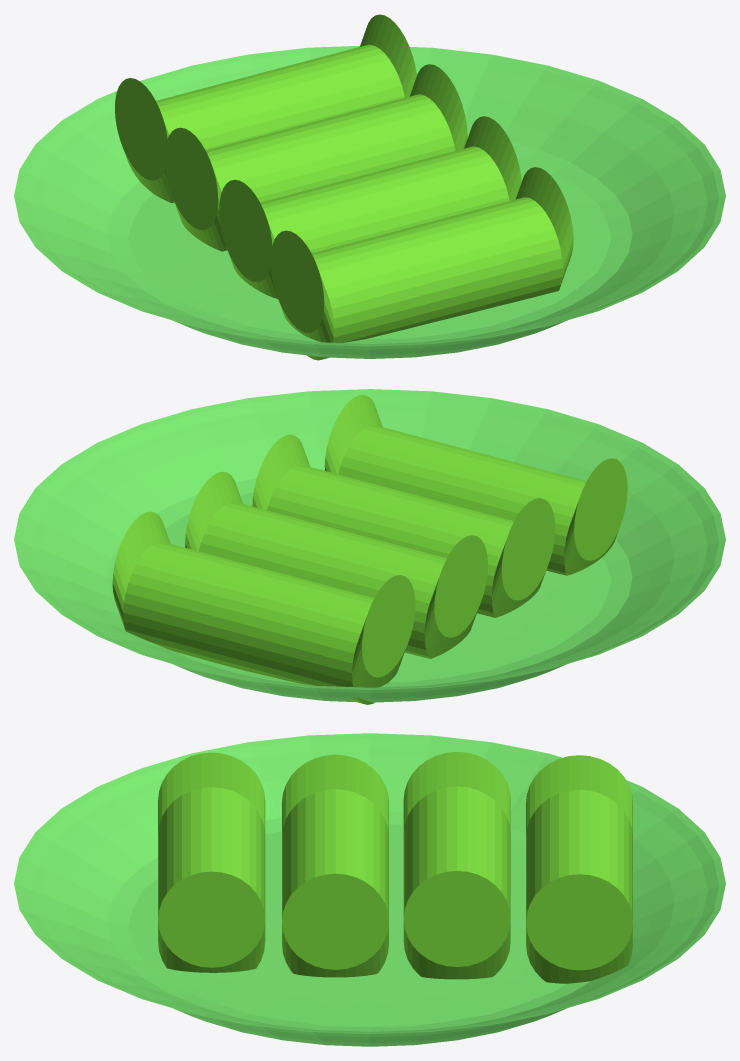
File: lemper.fbx
The picture shows the model from 3 angles, top to bottom: view 1: azimuth 30°, elevation 25°; view 2: azimuth 150°, elevation 25°; view 3: azimuth 270°, elevation 25°; orthographic projection.
Parts seen in each view (by area): view 1: Cylinder, Cylinder.002, Cylinder.003, Cylinder.001, Cylinder.004; view 2: Cylinder, Cylinder.004, Cylinder.003, Cylinder.002, Cylinder.001; view 3: Cylinder, Cylinder.003, Cylinder.004, Cylinder.001, Cylinder.002.
Part boxes in pixels (left/top/right/bottom): Cylinder: left=14, top=45, right=725, bottom=358; Cylinder.002: left=270, top=167, right=573, bottom=360; Cylinder.003: left=164, top=64, right=467, bottom=251; Cylinder.001: left=219, top=116, right=521, bottom=298; Cylinder.004: left=115, top=14, right=416, bottom=203; Cylinder: left=14, top=389, right=725, bottom=702; Cylinder.004: left=112, top=511, right=415, bottom=704; Cylinder.003: left=185, top=471, right=487, bottom=658; Cylinder.002: left=324, top=394, right=627, bottom=575; Cylinder.001: left=252, top=434, right=555, bottom=617; Cylinder: left=14, top=733, right=725, bottom=1046; Cylinder.003: left=403, top=752, right=510, bottom=979; Cylinder.004: left=526, top=755, right=632, bottom=983; Cylinder.001: left=282, top=754, right=388, bottom=977; Cylinder.002: left=158, top=752, right=265, bottom=972.
Bounding box in the file's own units: 231 × 49.6 × 231.
